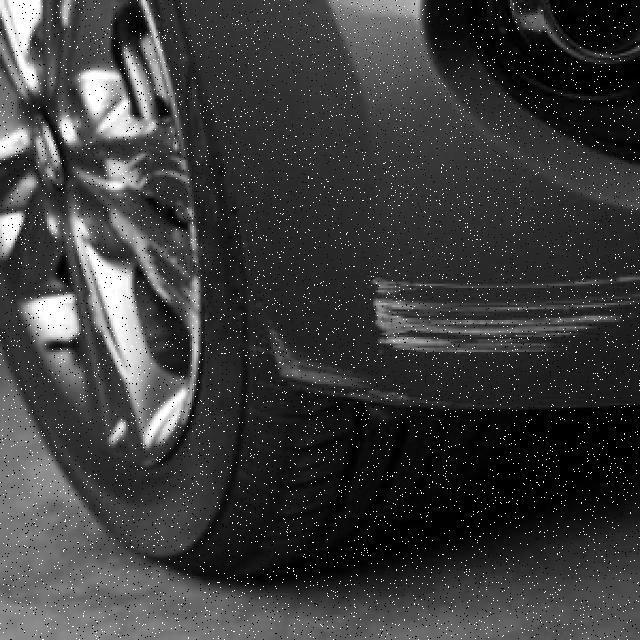front-bumper-dent: (211, 2, 637, 418)
